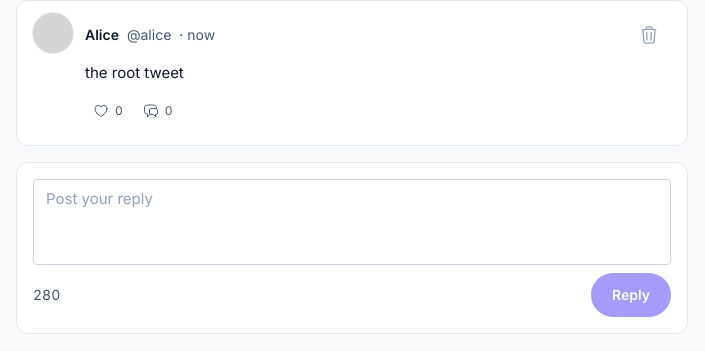
ThreadPage › posting a reply appears in the list and bumps the parent displayed count
The width and height of the screenshot is (705, 351).
Expected: the text "the root tweet" is shown, 85,63 -> 184,82
Step 1. Type "my new reply" into the text box → (352, 222), box 33,179 -> 671,265
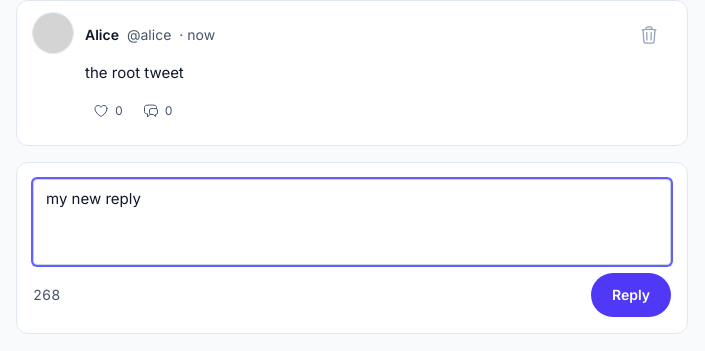
Step 2. Click the button "Reply" → (631, 295), box 591,273 -> 671,317
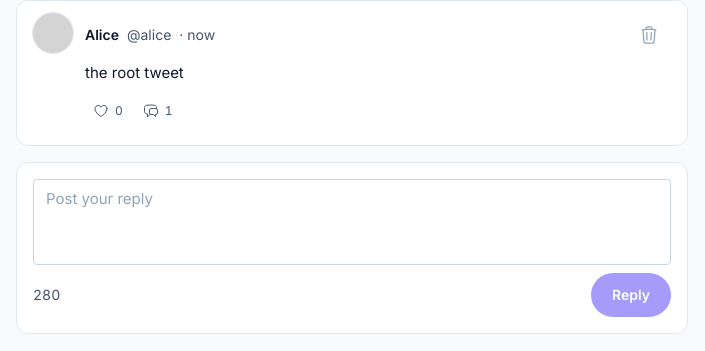
Expected: the text box "my new reply" is shown, 33,179 -> 671,265
Now the link named "1 replies, open thread" is shown, box 143,103 -> 173,119
